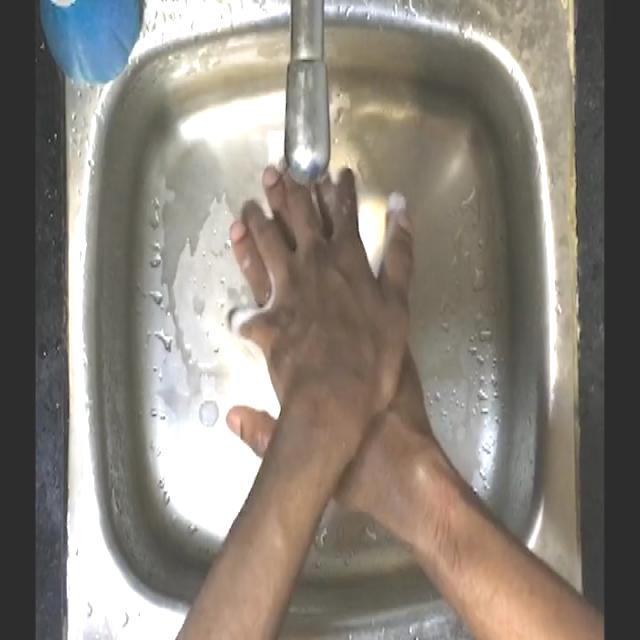step_2: (196, 146, 437, 462)
